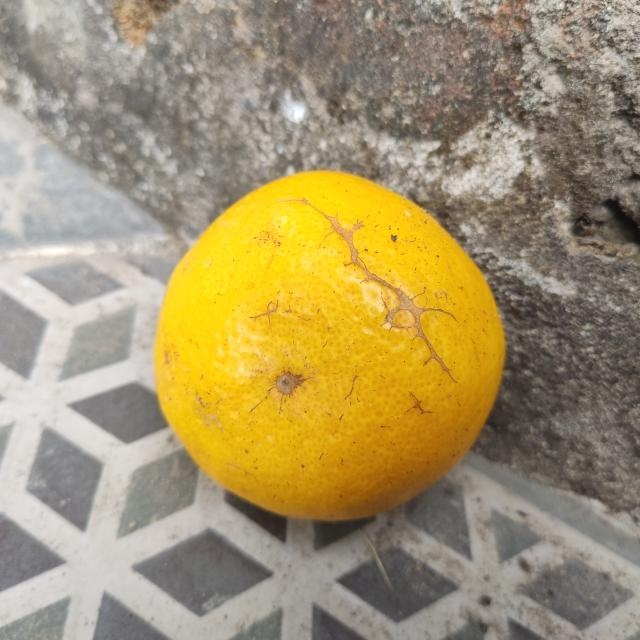agrume: (153, 169, 511, 527)
